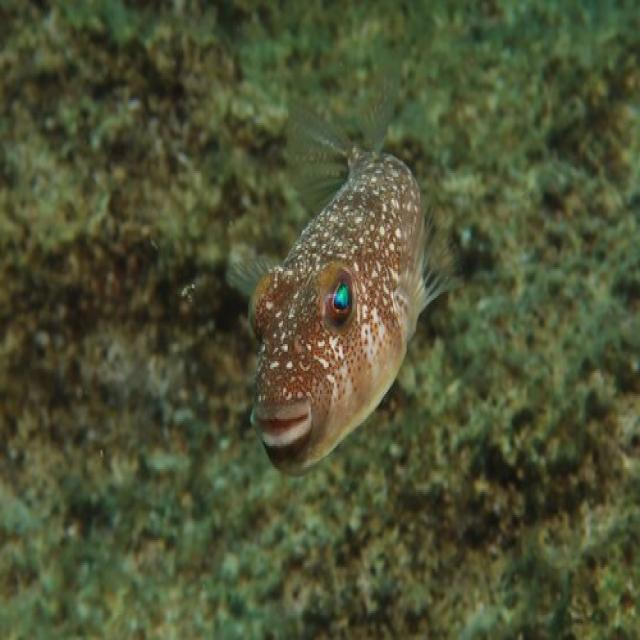Balik: (231, 87, 449, 474)
